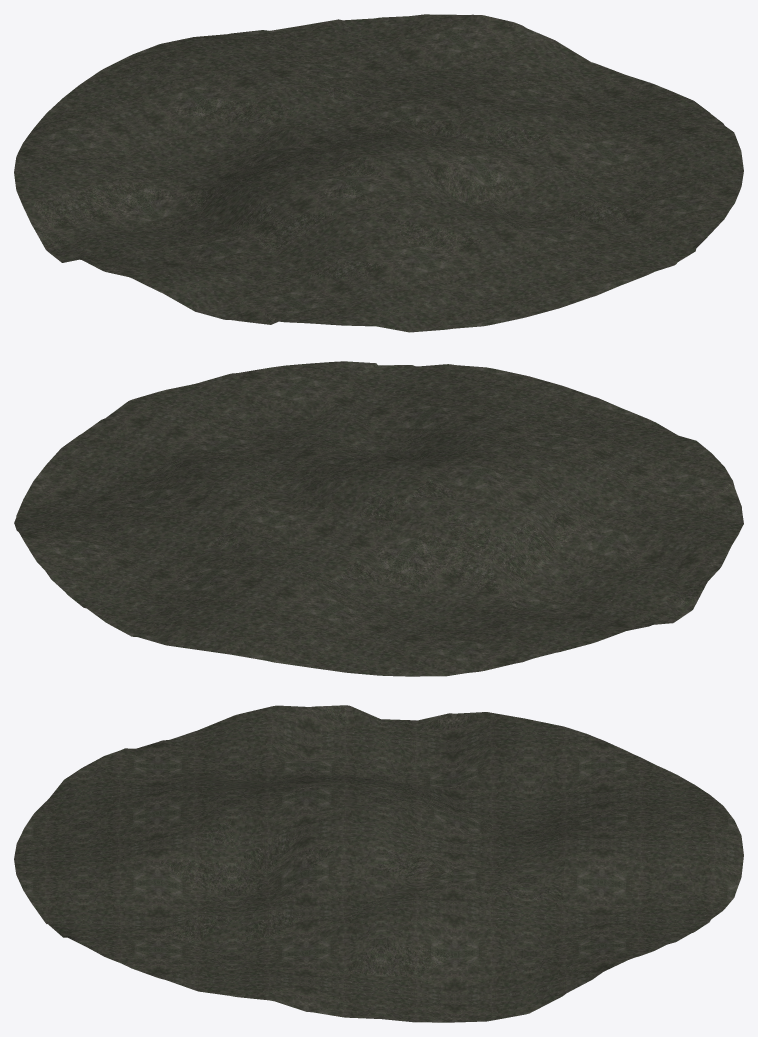
Rendered from mg_9_soil_0.fbx.
3 renders of one model, top to bottom at view 1: azimuth 30°, elevation 25°; view 2: azimuth 150°, elevation 25°; view 3: azimuth 270°, elevation 25°, orthographic.
Visible parts, largest first — view 1: mg_9_soil_0; view 2: mg_9_soil_0; view 3: mg_9_soil_0.
Boxes of the visible parts, bbox=[...] form: mg_9_soil_0: bbox=[14, 14, 743, 332]; mg_9_soil_0: bbox=[14, 361, 743, 676]; mg_9_soil_0: bbox=[14, 705, 743, 1022].
Size of the model in its own units: 1625 by 136 by 1629.
